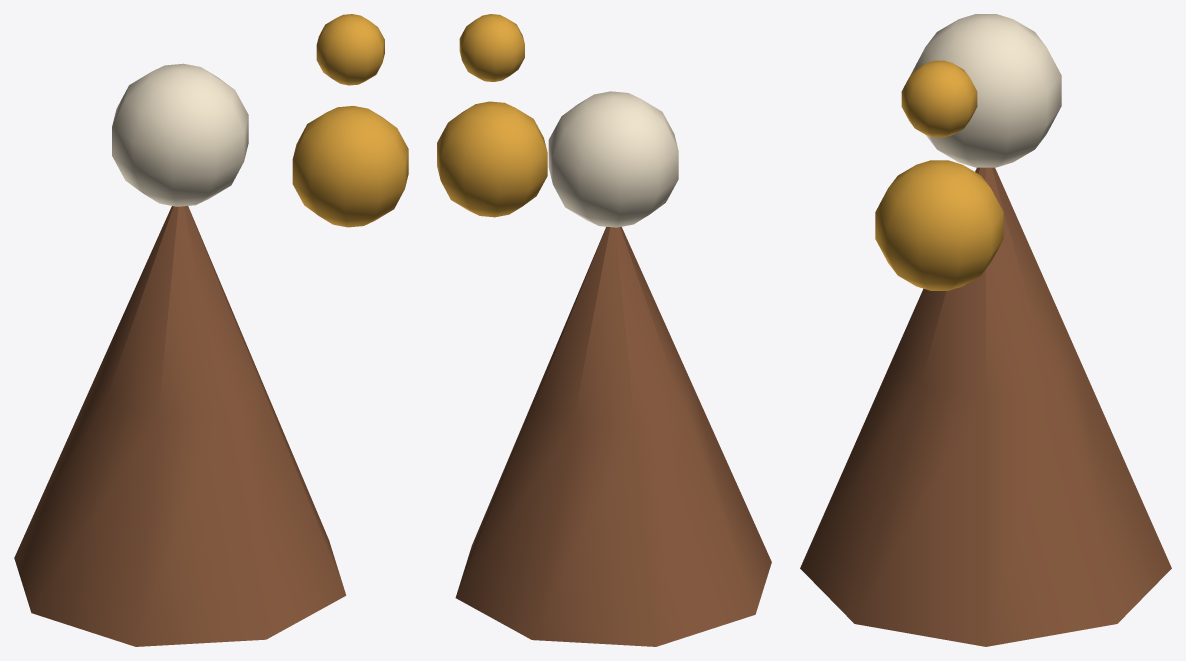
File: fa_xiu.glb
3 renders of one model, left to right at view 1: azimuth 30°, elevation 25°; view 2: azimuth 150°, elevation 25°; view 3: azimuth 270°, elevation 25°, orthographic. The views are drawn at different scales.
Visible parts, largest first — view 1: _MeshInstance3D_10, _MeshInstance3D_11, _MeshInstance3D_12, _MeshInstance3D_13; view 2: _MeshInstance3D_10, _MeshInstance3D_11, _MeshInstance3D_12, _MeshInstance3D_13; view 3: _MeshInstance3D_10, _MeshInstance3D_11, _MeshInstance3D_12, _MeshInstance3D_13.
Part boxes in pixels (<box>): _MeshInstance3D_10: <box>14,206,346,646</box>; _MeshInstance3D_11: <box>112,63,248,206</box>; _MeshInstance3D_12: <box>292,106,408,227</box>; _MeshInstance3D_13: <box>316,14,384,85</box>; _MeshInstance3D_10: <box>455,226,771,646</box>; _MeshInstance3D_11: <box>548,91,678,227</box>; _MeshInstance3D_12: <box>437,101,547,217</box>; _MeshInstance3D_13: <box>459,14,524,81</box>; _MeshInstance3D_10: <box>800,167,1171,646</box>; _MeshInstance3D_11: <box>910,14,1061,167</box>; _MeshInstance3D_12: <box>875,160,1003,290</box>; _MeshInstance3D_13: <box>901,60,977,137</box>.
Size of the model in its own units: 0.5588 by 0.83 by 0.48.
